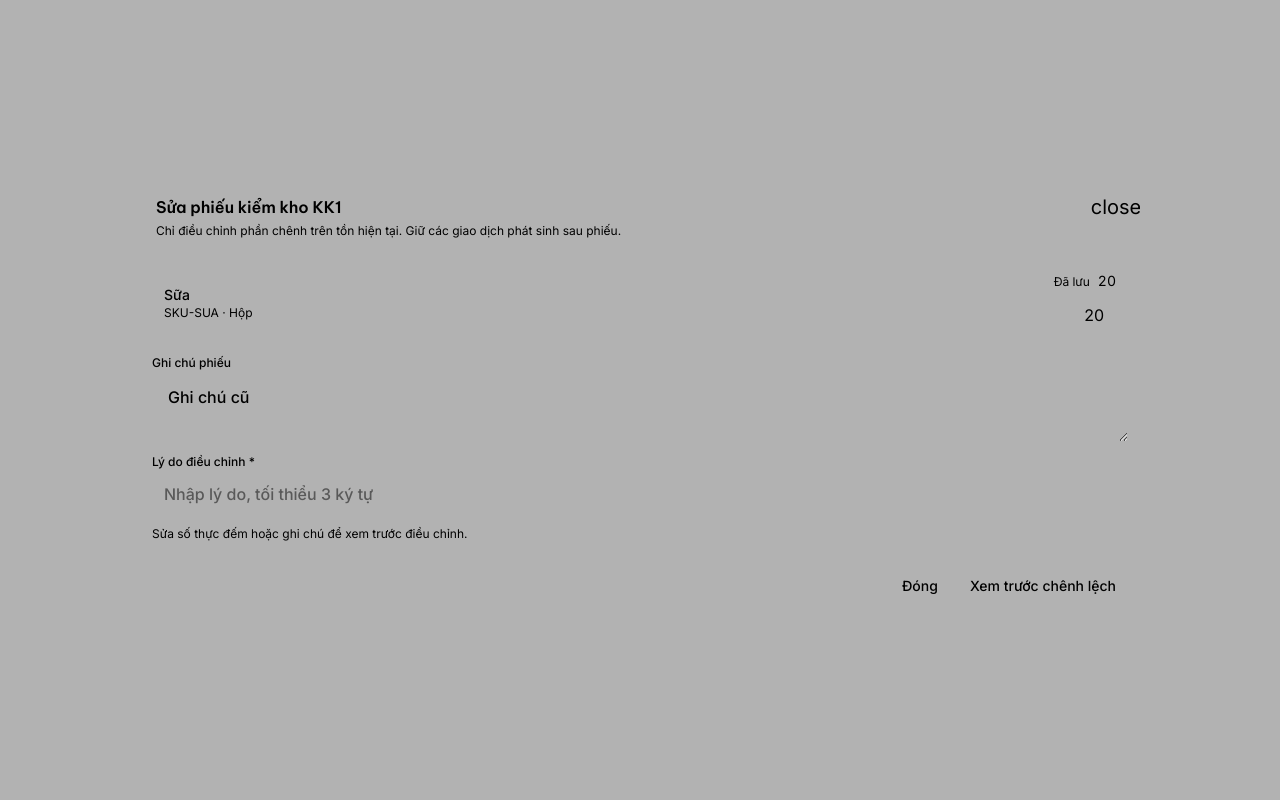
inventory correction workflow › blocks confirmation when preview finds insufficient current stock
Expected: the field named "Thực đếm sửa lại Sữa" is shown, x1=996 y1=295 x2=1116 y2=335
Type "Đếm nhầm" into the field with placeholder "Nhập lý do, tối thiểu 3 ký tự" at (640, 493), box x1=152 y1=473 x2=1128 y2=513
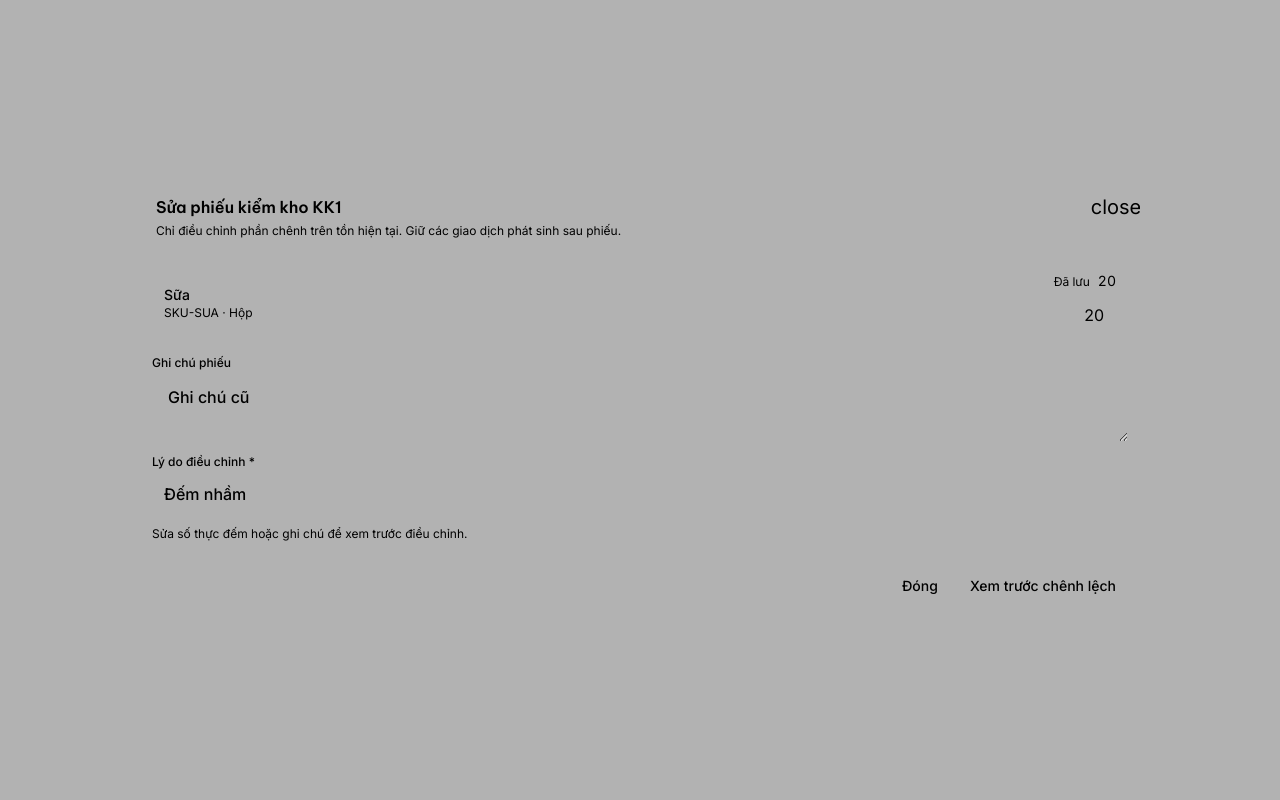
Replace the text in the field named "Thực đếm sửa lại Sữa" with "18" at (1056, 315), box x1=996 y1=295 x2=1116 y2=335
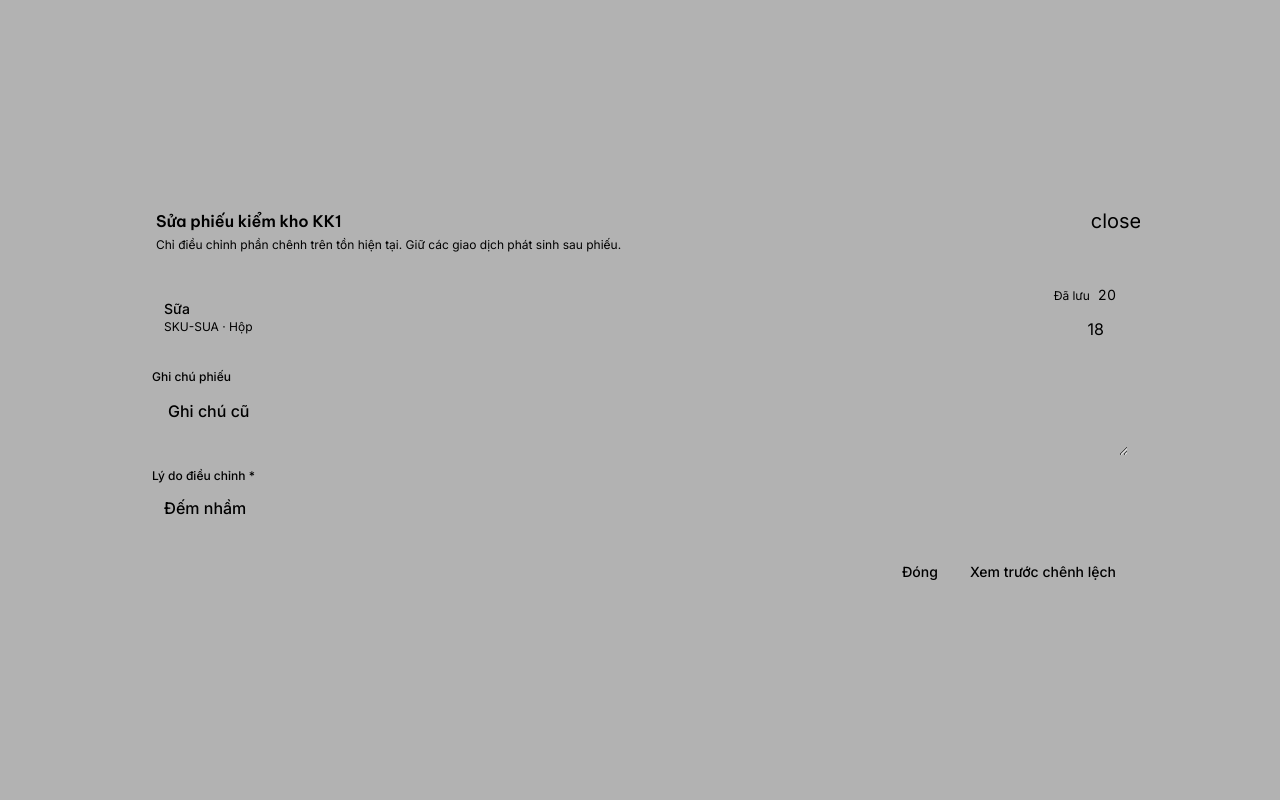
Click the button "Xem trước chênh lệch" at (1043, 571), box x1=958 y1=551 x2=1128 y2=591
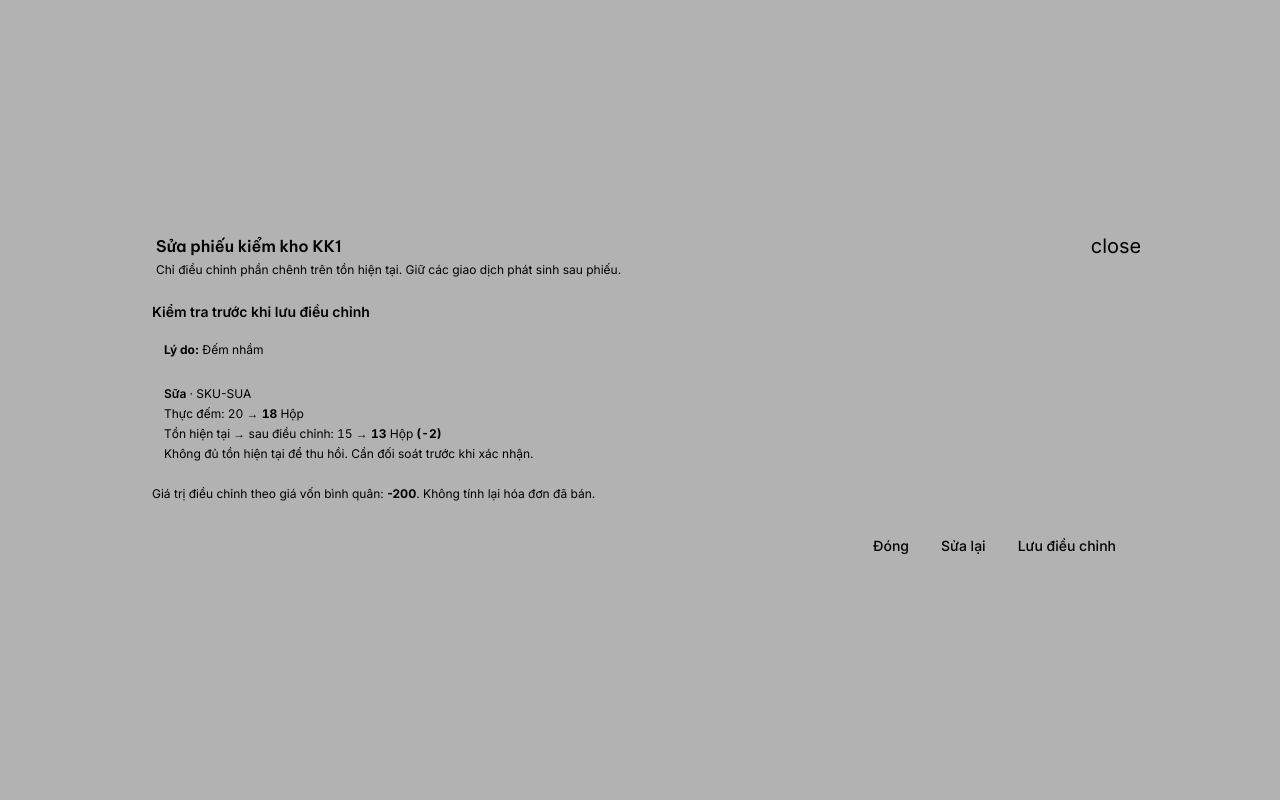
Expected: the button "Lưu điều chỉnh" is disabled, x1=1006 y1=526 x2=1128 y2=566
Expected: the text "Không đủ tồn hiện tại" is shown, x1=164 y1=446 x2=534 y2=461
